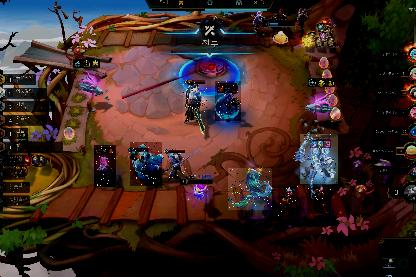1_diana: (307, 188, 331, 214)
1_leesin: (278, 186, 298, 218)
1_shyvana: (215, 81, 241, 121)
1_sohm: (228, 168, 272, 210)
1_yasuo: (94, 145, 116, 187)
2_daeja: (300, 134, 338, 184)
2_nunu: (130, 142, 162, 186)
2_yone: (164, 149, 186, 181)
3_leona: (183, 80, 207, 124)
